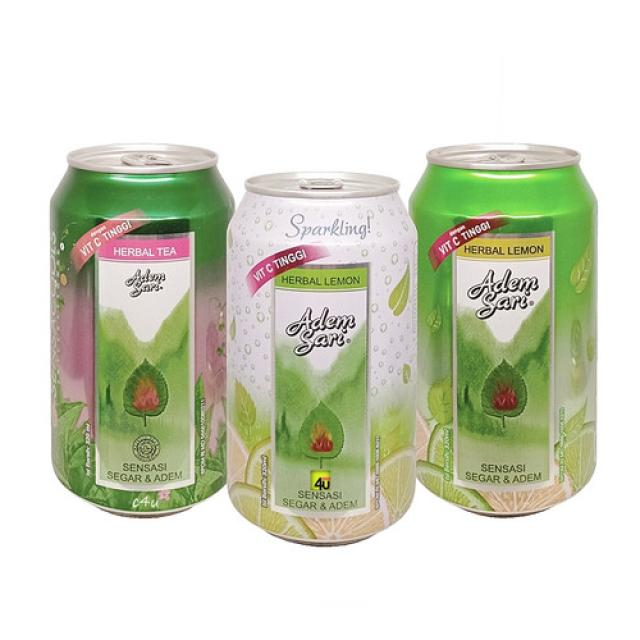ademsarikaleng: (224, 169, 419, 547), (408, 141, 599, 517), (48, 141, 234, 518)
